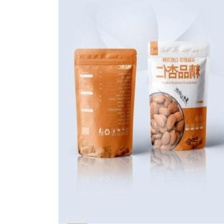snack: (142, 34, 215, 155), (69, 43, 142, 162)
